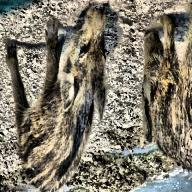boar: (6, 9, 108, 192)
